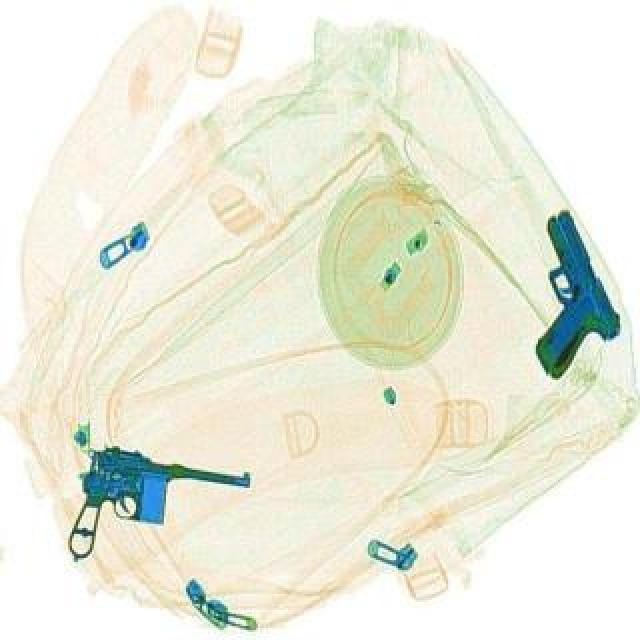gun: (58, 436, 252, 590), (482, 206, 634, 380)
